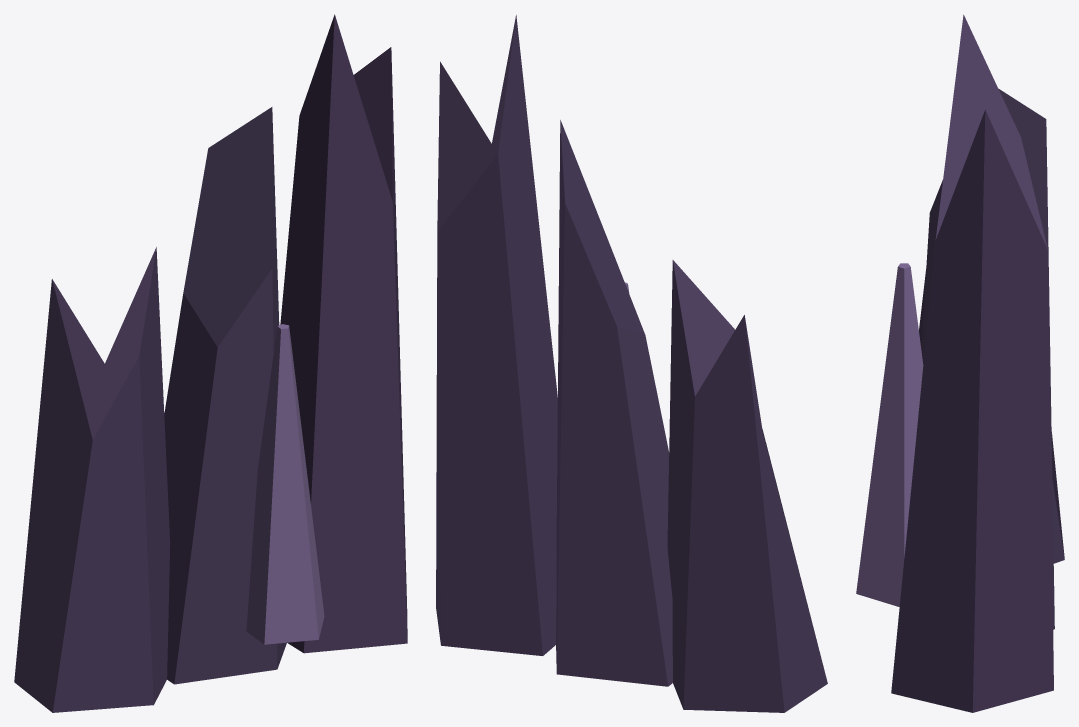
File: map-boundaries-v5__dragon_02.glb
3 renders of one model, left to right at view 1: azimuth 30°, elevation 25°; view 2: azimuth 150°, elevation 25°; view 3: azimuth 270°, elevation 25°, orthographic. The views are drawn at different scales.
Visible parts, largest first — view 1: dragon_02; view 2: dragon_02; view 3: dragon_02.
Boxes of the visible parts, box(x1,y1,x2,y2) form: dragon_02: box(14, 14, 407, 712); dragon_02: box(436, 15, 827, 712); dragon_02: box(856, 14, 1064, 712).
Bounding box in the file's own units: 1.37 × 2.15 × 0.6178.
